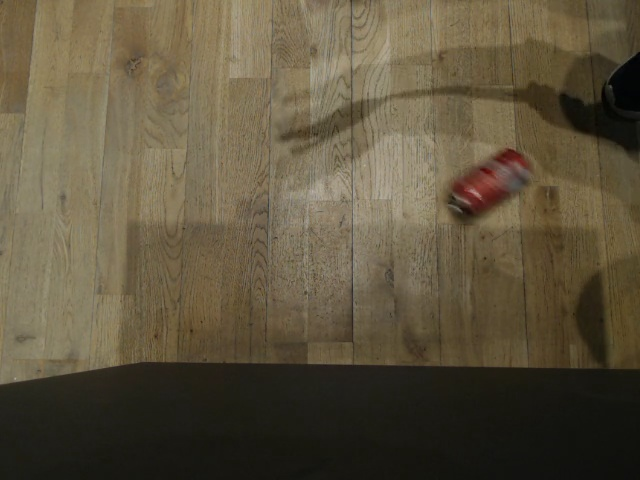cola: (446, 146, 536, 223)
